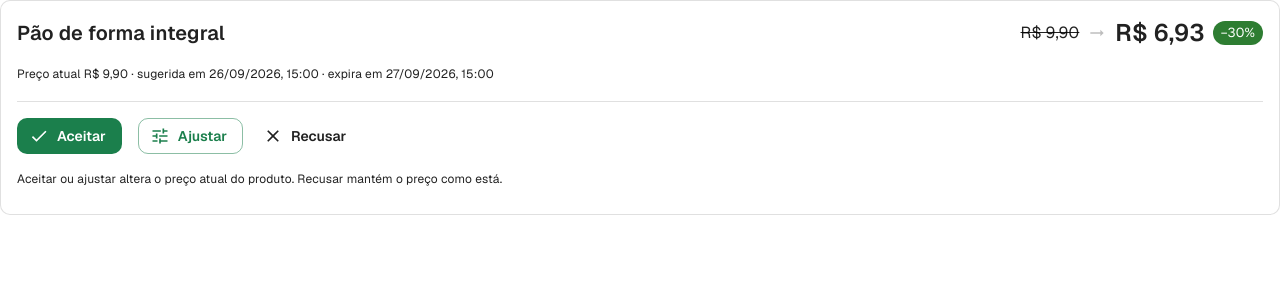
Test: PendingRecommendationsPanel › warns when the recommendation was already answered elsewhere
This screenshot has width=1280, height=296.
Click the button "Aceitar" at (69, 136), box [17,118,122,154]
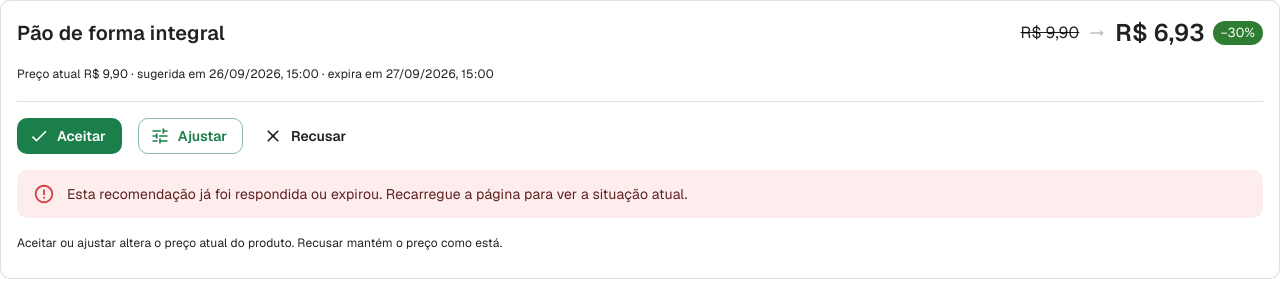
Result: the message shows "já foi respondida ou expirou" at [67,185,688,203]
